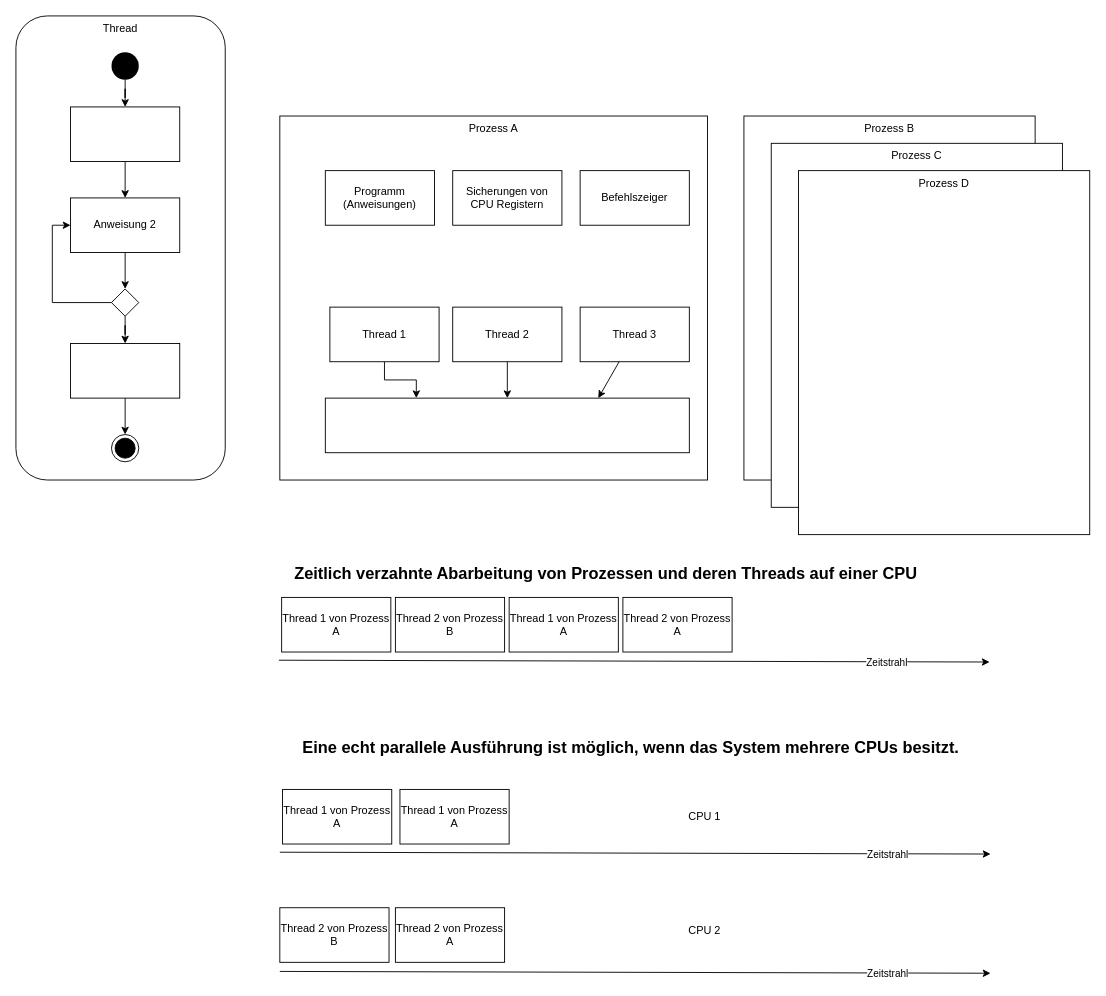
Image size: 1106x996. Some labels were removed from this diagram. The centre of each missing label's shape, as x and y in pixels:
Anweisung 1: point 125,134
Anweisung 3: point 125,370
virtueller Speicher: point 506,425
